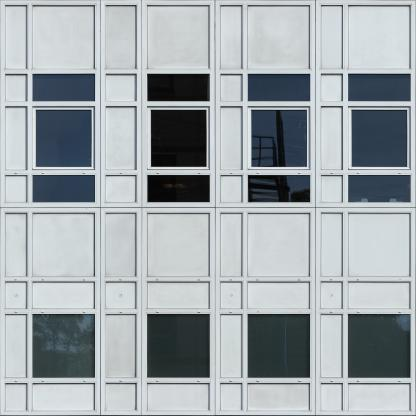Building Outline: (1, 1, 416, 416)
Facade: (1, 1, 416, 416)
Floor: (1, 1, 416, 233), (1, 245, 416, 403)
Floor Slab: (0, 403, 416, 416), (0, 233, 416, 246)
Window: (349, 106, 411, 169), (33, 106, 95, 169), (148, 106, 210, 169), (248, 106, 310, 169), (349, 315, 411, 377), (33, 315, 95, 377), (148, 315, 210, 377), (248, 315, 310, 377), (349, 175, 411, 203), (33, 175, 95, 203), (148, 175, 210, 203), (248, 175, 310, 203), (349, 74, 411, 101), (33, 74, 95, 101), (148, 74, 210, 101), (248, 74, 310, 101)
